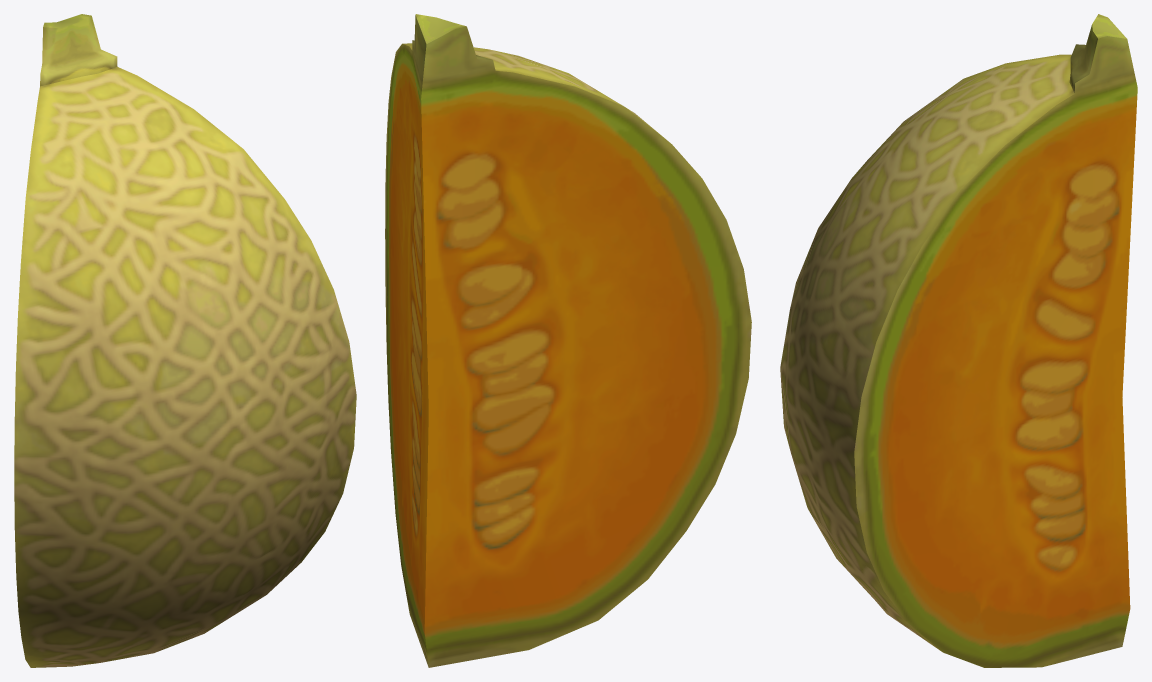
Rendered from SM_CantaloupeSlice.fbx.
3 renders of one model, left to right at view 1: azimuth 30°, elevation 25°; view 2: azimuth 150°, elevation 25°; view 3: azimuth 270°, elevation 25°, orthographic. The views are drawn at different scales.
Parts seen in each view (by area): view 1: SM_CantaloupeSlice; view 2: SM_CantaloupeSlice; view 3: SM_CantaloupeSlice.
Boxes of the visible parts, bbox=[...] form: SM_CantaloupeSlice: bbox=[14, 14, 356, 667]; SM_CantaloupeSlice: bbox=[385, 14, 751, 667]; SM_CantaloupeSlice: bbox=[780, 14, 1137, 667].
Size of the model in its own units: 16.04 by 26.82 by 14.
